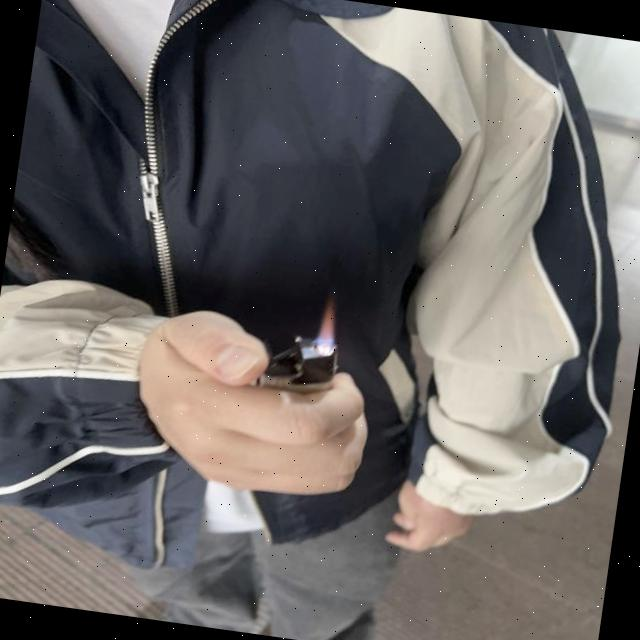fire: (316, 308, 339, 346)
